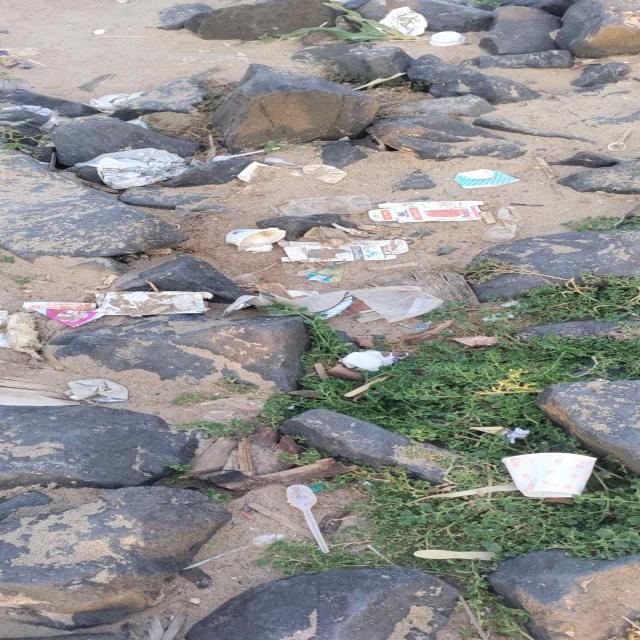giay: (62, 379, 126, 403), (339, 350, 408, 372), (33, 308, 102, 327)
hop_nhua: (502, 453, 597, 498), (224, 227, 284, 252)
ly_hop_giay: (225, 281, 446, 323), (282, 228, 409, 262), (94, 291, 210, 316), (367, 201, 483, 222), (453, 169, 519, 188)
nhua: (74, 148, 187, 188), (180, 535, 283, 572), (286, 485, 329, 554)
rac_huu_co: (265, 338, 639, 491), (337, 460, 640, 640), (532, 276, 640, 319), (270, 546, 385, 572)
